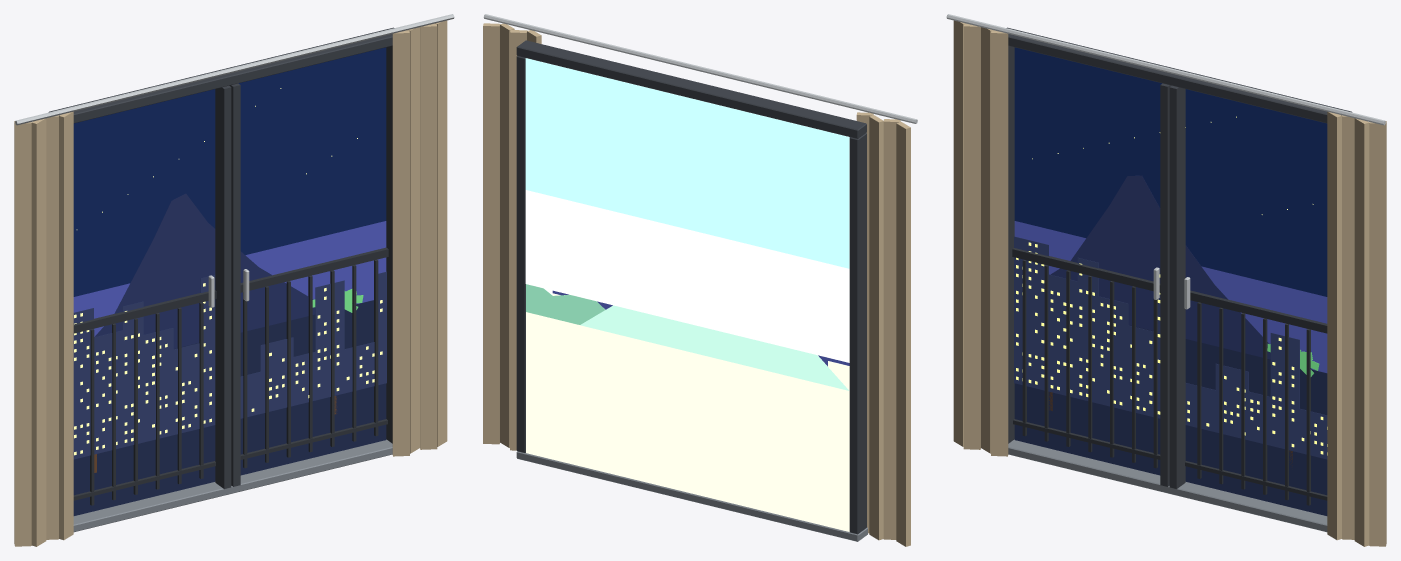
The model's file is condo_window.glb.
3 renders of one model, left to right at view 1: azimuth 30°, elevation 25°; view 2: azimuth 150°, elevation 25°; view 3: azimuth 330°, elevation 25°, orthographic.
Parts seen in each view (by area): view 1: ViewNight, WindowFrame; view 2: ViewDay, WindowFrame; view 3: ViewNight, WindowFrame.
Part boxes in pixels (x1,y1,x2,y2): ViewNight: (73,47,386,515); WindowFrame: (14,14,454,546); ViewDay: (525,58,849,531); WindowFrame: (483,14,917,546); ViewNight: (1014,47,1327,515); WindowFrame: (946,14,1386,546).
Bounding box in the file's own units: 2.4 × 2.25 × 0.1505.
